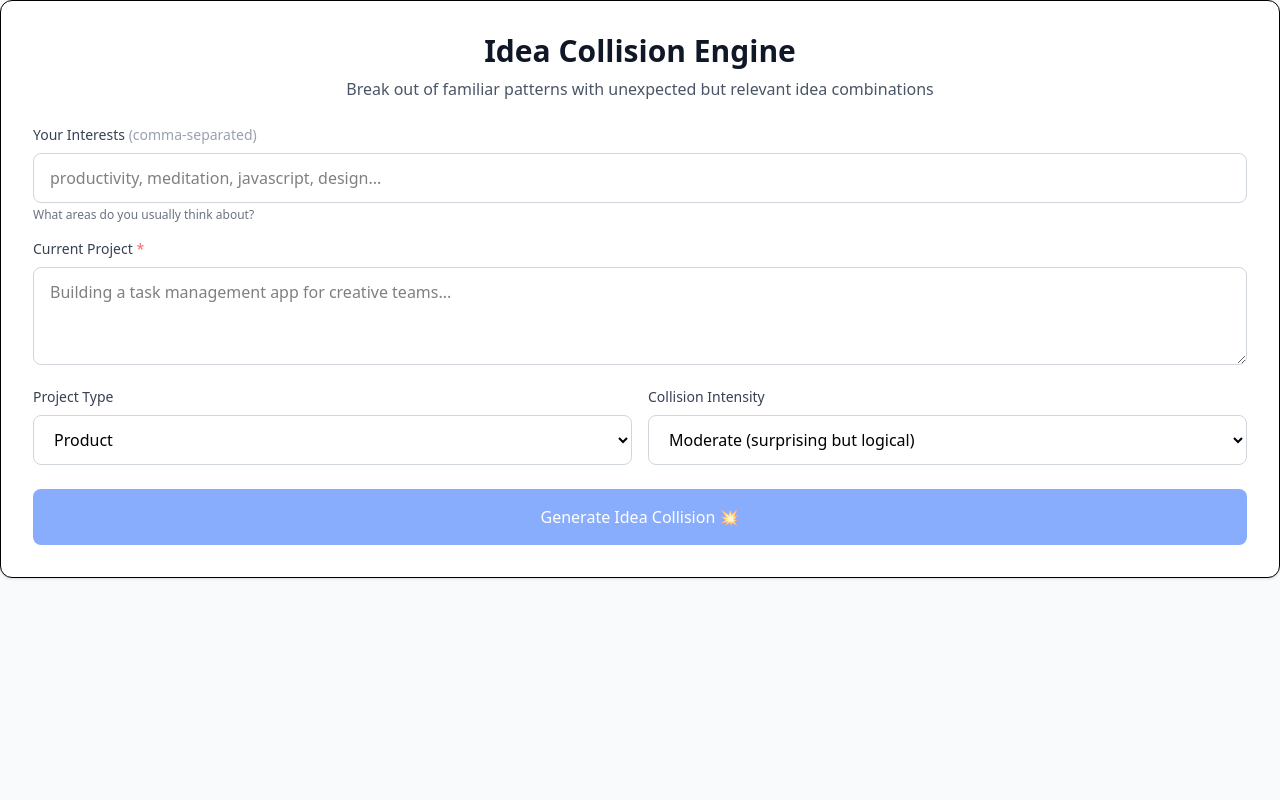
Test case: CollisionForm › should require project description
Expected: the button "Generate Idea Collision 💥" is disabled, 33,489 -> 1247,545
Fill in project description
Type "Building a task manager" into the text box labelled "Current Project *".
click(640, 316); type("Building a task manager")  # box 33,267 -> 1247,365
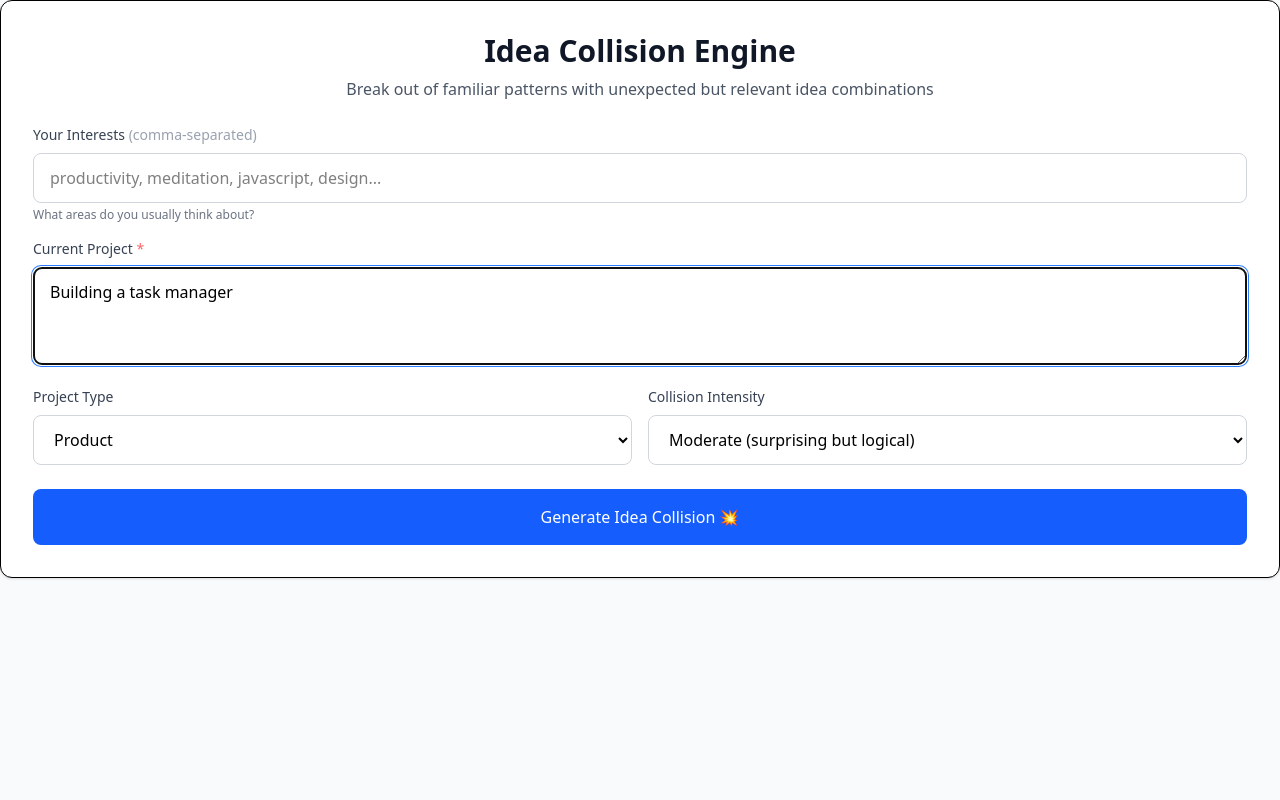
Expected: the button "Generate Idea Collision 💥" is enabled, 33,489 -> 1247,545
